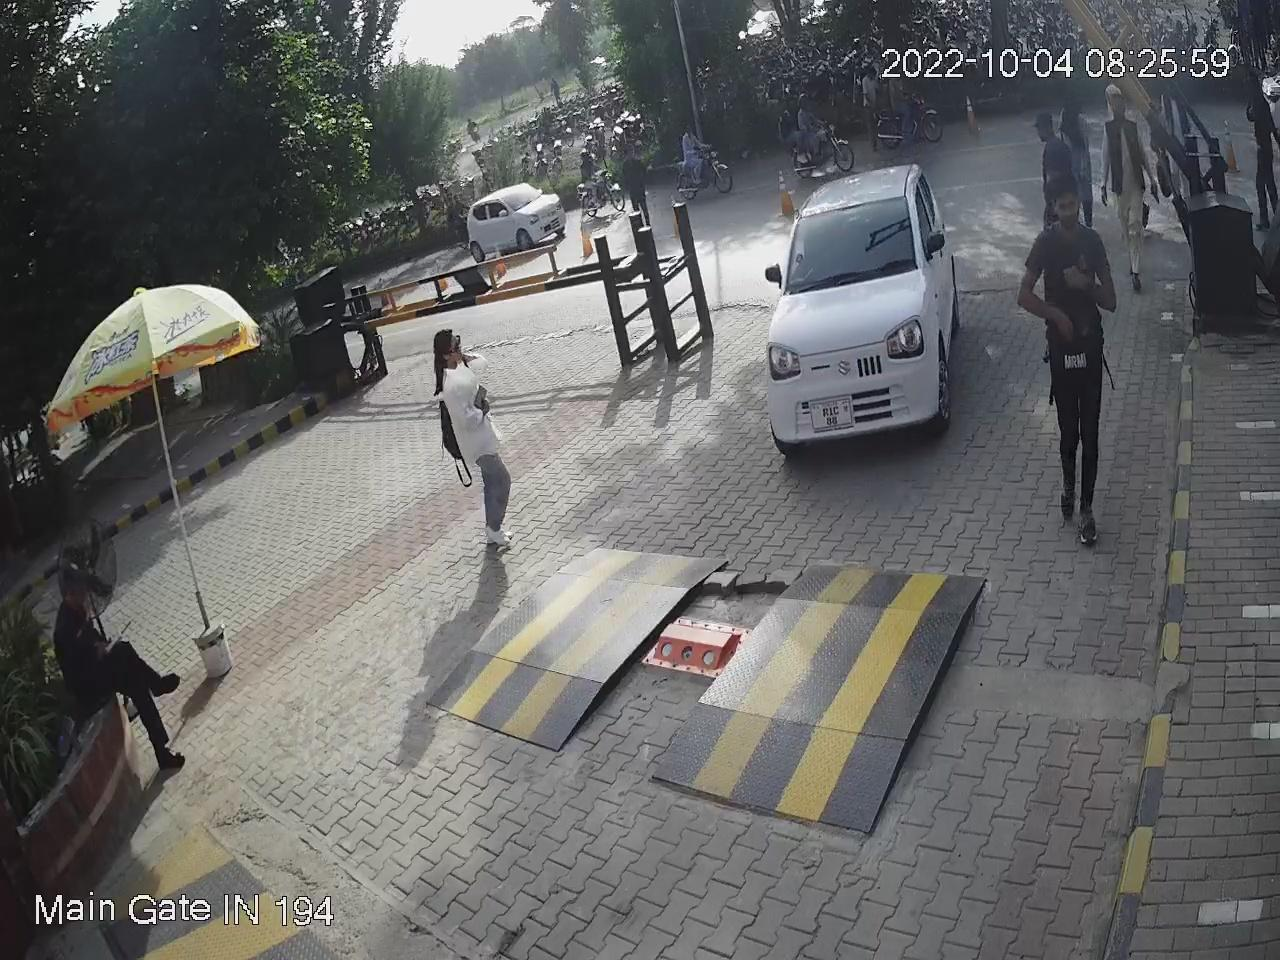windshield: (783, 185, 923, 301)
